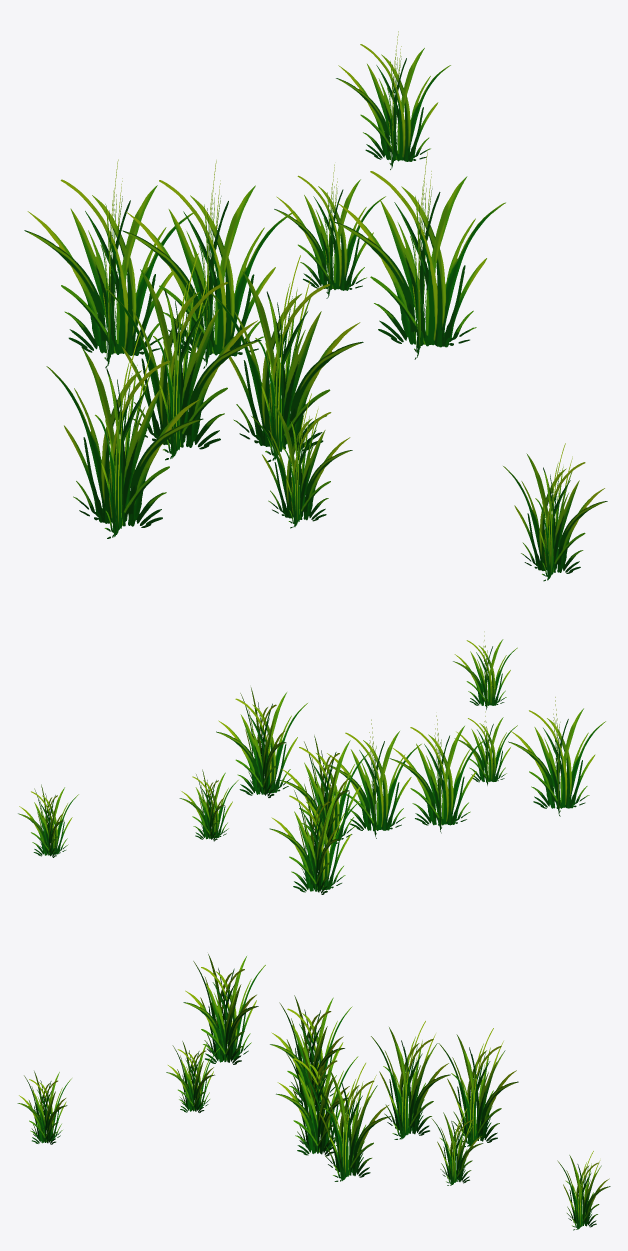
The model's file is pasto_alto.fbx.
3 renders of one model, top to bottom at view 1: azimuth 30°, elevation 25°; view 2: azimuth 150°, elevation 25°; view 3: azimuth 270°, elevation 25°, orthographic. The views are drawn at different scales.
Visible parts, largest first — view 1: pasto; view 2: pasto; view 3: pasto.
Boxes of the visible parts, left/top/right/bottom form: pasto: left=24, top=31, right=607, bottom=581; pasto: left=18, top=631, right=605, bottom=894; pasto: left=17, top=954, right=610, bottom=1230.
Size of the model in its own units: 1433 by 448 by 1840.
